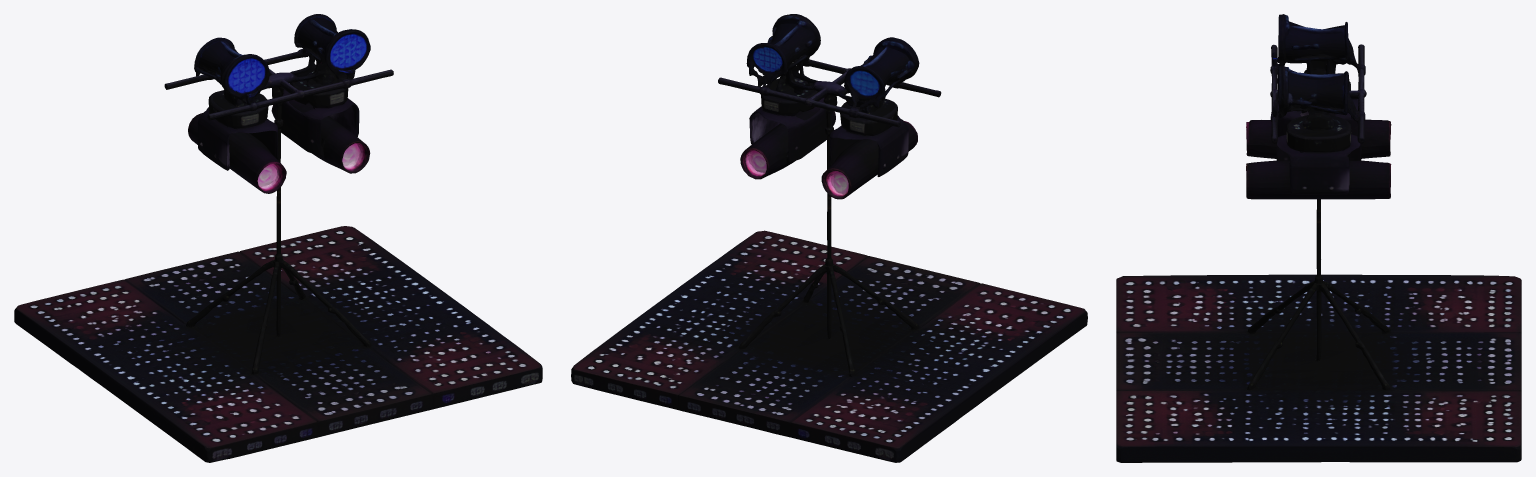
Rendered from the_dance_floor_and_the_light_holder.glb.
3 renders of one model, left to right at view 1: azimuth 30°, elevation 25°; view 2: azimuth 150°, elevation 25°; view 3: azimuth 270°, elevation 25°, orthographic. The views are drawn at different scales.
Parts seen in each view (by area): view 1: world; view 2: world; view 3: world.
Boxes of the visible parts, box(x1,y1,x2,y2) form: world: box(14, 14, 542, 462); world: box(571, 14, 1087, 462); world: box(1116, 14, 1521, 462).
Bounding box in the file's own units: 0.7004 × 0.6391 × 0.7004.
1 material, 1 textured.
